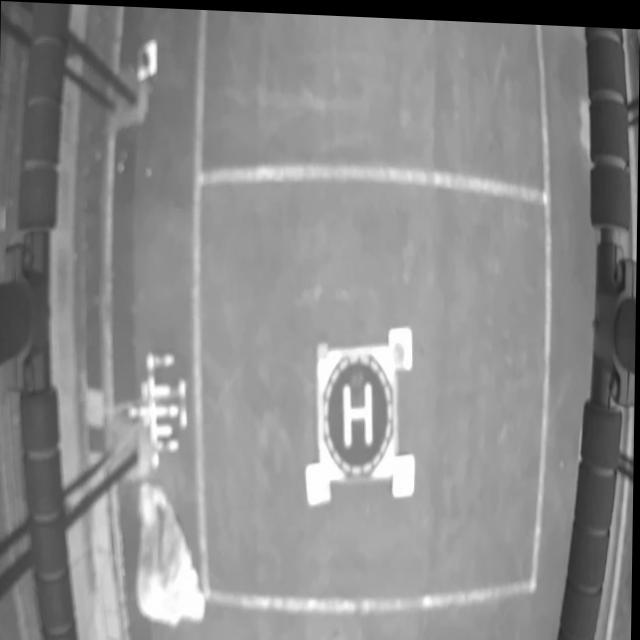Helipad: (343, 379, 373, 442)
